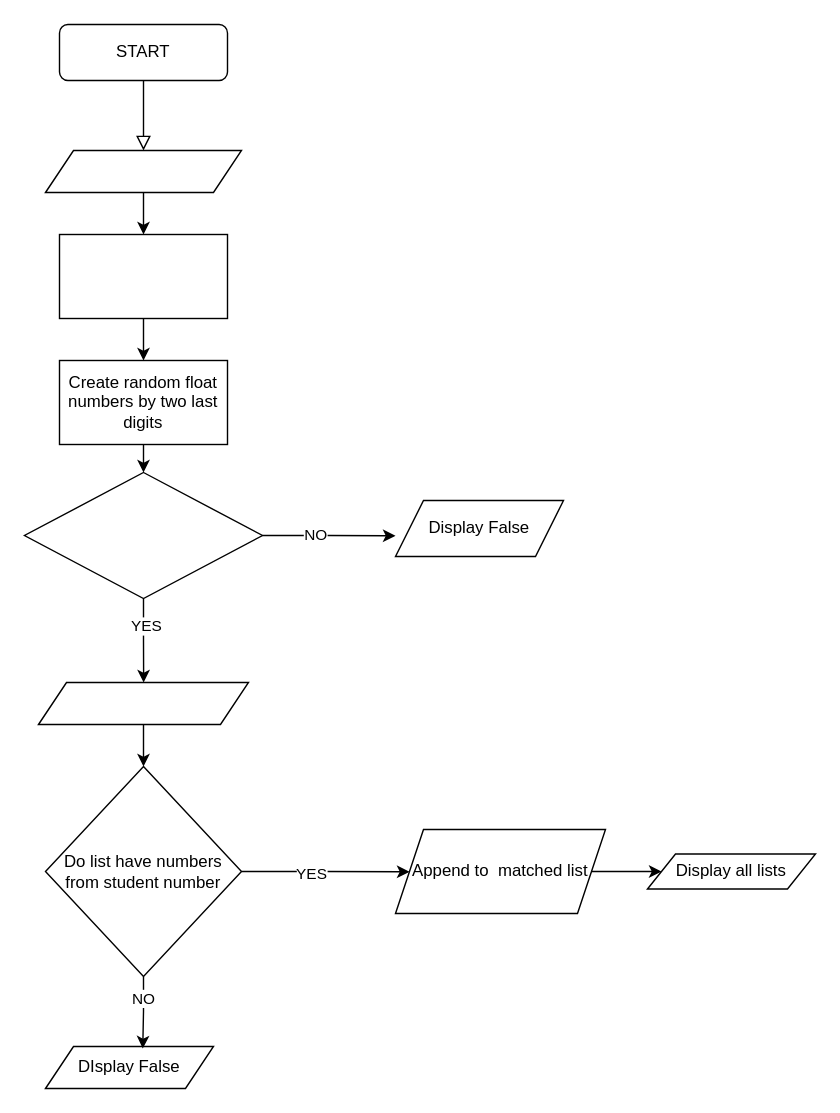
Image size: 840x1113. Some labels were removed from this diagram. The centre of each missing label's shape, as x and y in pixels:
append to repeated numbers list: the point at 142,702
Do list have repeated numbers?: the point at 142,534
Get student number: the point at 142,170
Take last two digit by slicing[-2:]: the point at 142,275
